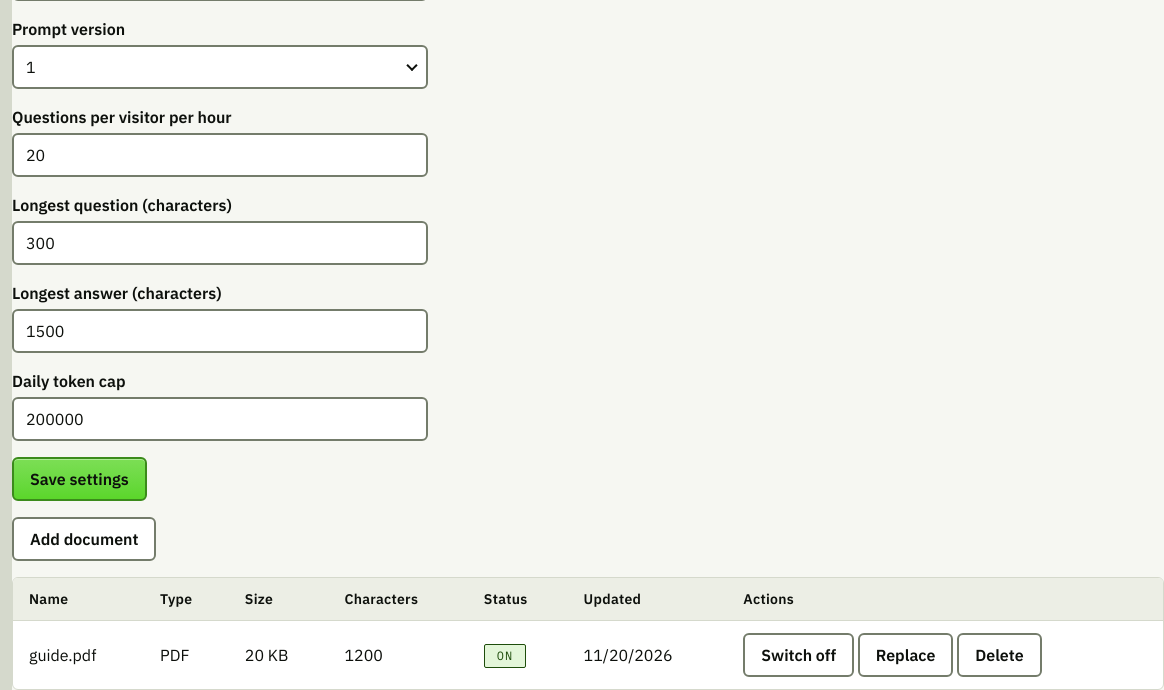
Scenario: chatbot admin page › switches a document off without a popup
(page scrolled)
Expected: the element named "Documents" is shown, [12,577,1163,689]
Click the button with aria-label "Switch off guide.pdf". click: (799, 655)
box: [743,633,854,677]
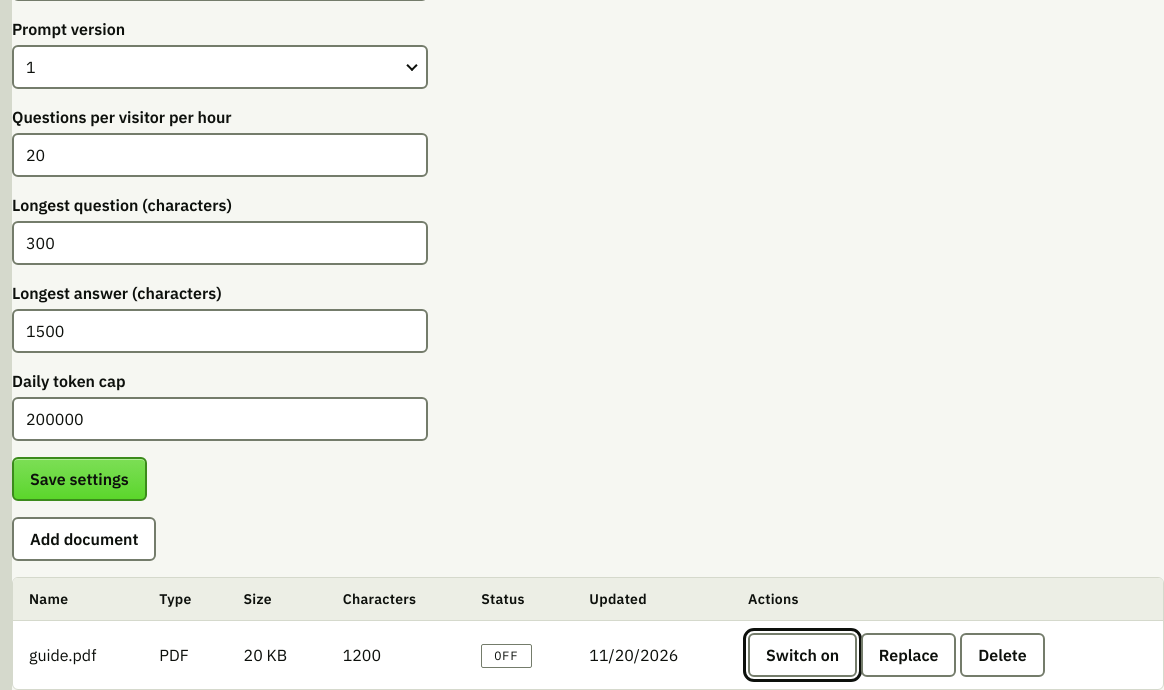
Expected: the button with aria-label "Switch on guide.pdf" is shown, [748,633,857,677]
